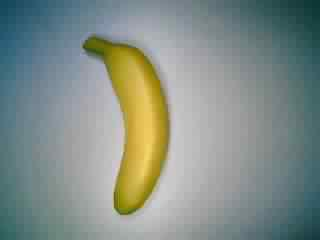banana: (76, 30, 177, 224)
